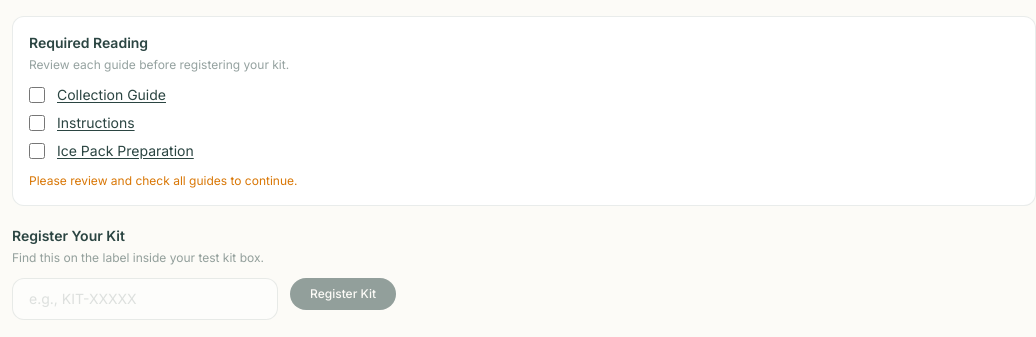
Test: KitRegistrationForm › shows "already registered" error for registered kit
This screenshot has width=1036, height=337.
Click the checkbox labelled "Collection Guide". click: (37, 95)
box: [29,87,45,103]
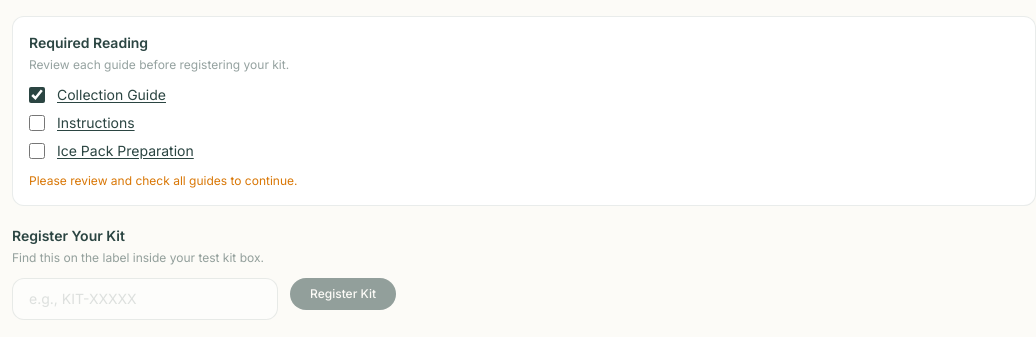
Click the checkbox labelled "Instructions". click: (37, 123)
box: [29,115,45,131]
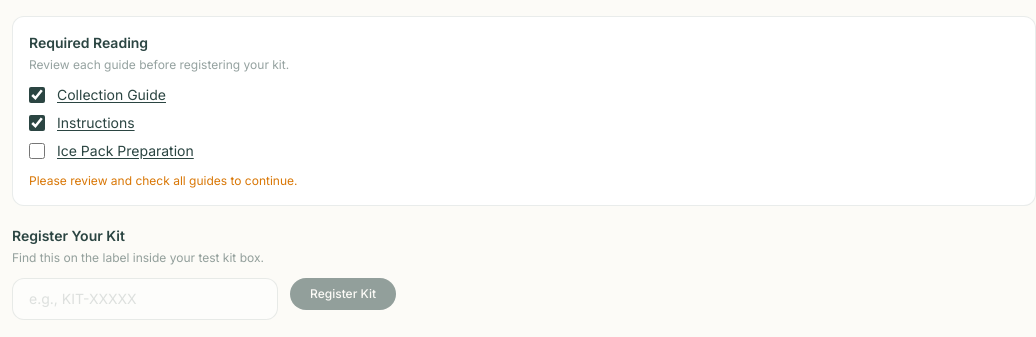
Click the checkbox labelled "Ice Pack Preparation". click: (37, 151)
box: [29,143,45,159]
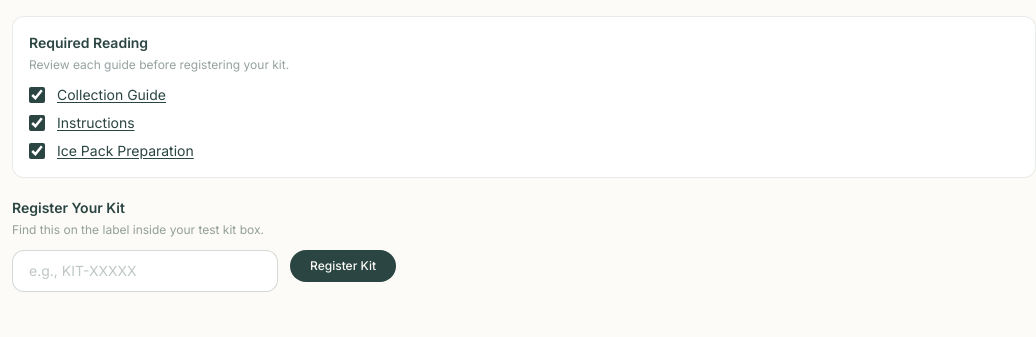
Type "KIT-REG" into the field with placeholder "e.g., KIT-XXXXX". click: (145, 271)
box: [12,250,278,292]
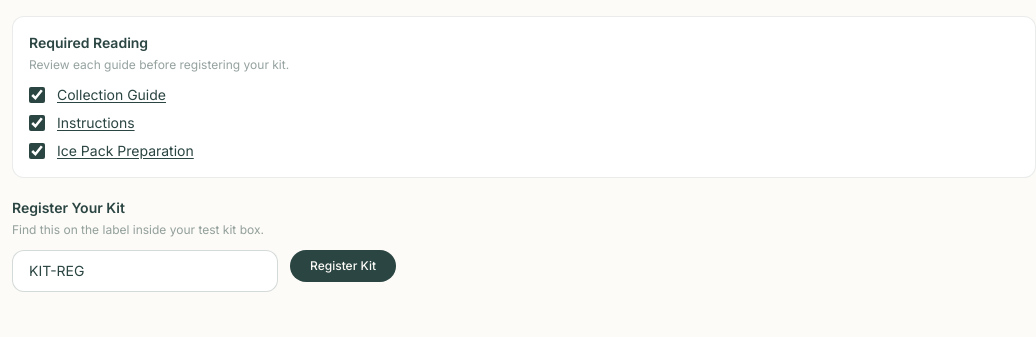
Click the button "Register Kit". click: (343, 266)
box: [290,250,396,282]
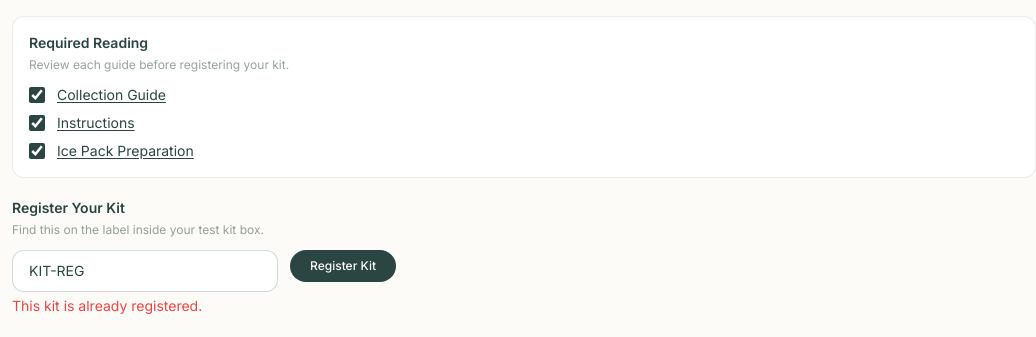
Result: the text "This kit is already registered." is shown at [12,297,202,314]
